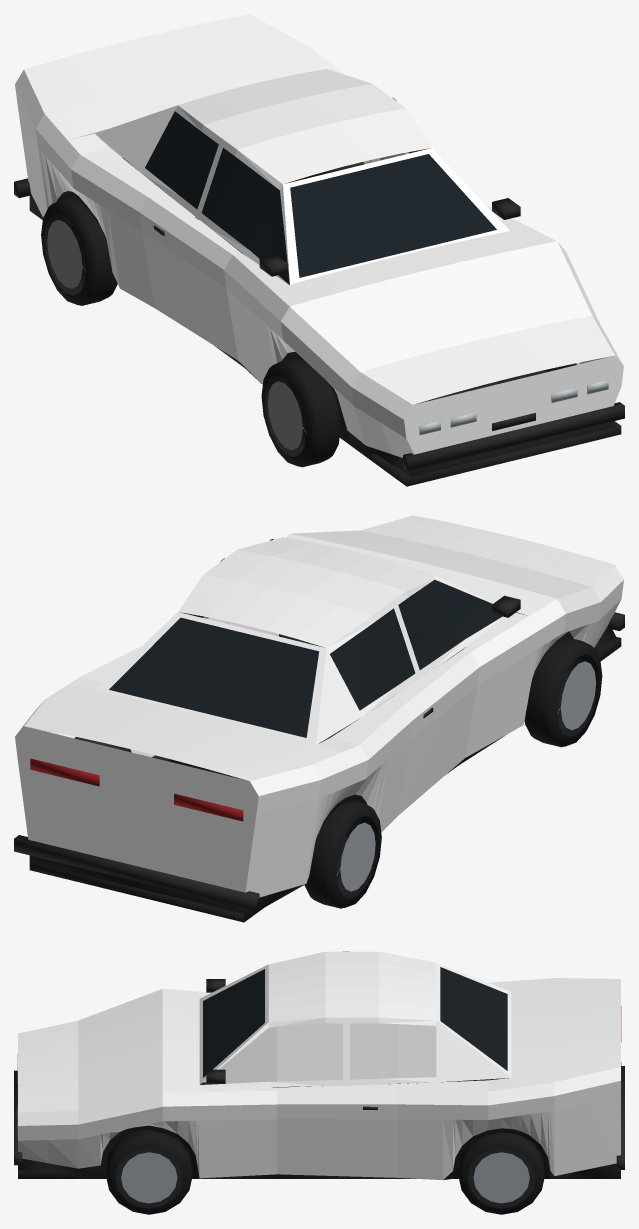
The model's file is pemberly_flautista.glb.
3 views of the same model, one above another, from view 1: azimuth 30°, elevation 25°; view 2: azimuth 150°, elevation 25°; view 3: azimuth 270°, elevation 25° (orthographic). The views are drawn at different scales.
Visible parts, largest first — view 1: Body_Paint, Body_Details, Mount_FrontLeft_Wheel_Details, Mount_RearLeft_Wheel_Details; view 2: Body_Paint, Body_Details, Mount_FrontLeft_Wheel_Details, Mount_RearLeft_Wheel_Details; view 3: Body_Paint, Body_Details, Mount_FrontRight_Wheel_Details, Mount_RearRight_Wheel_Details.
Boxes of the visible parts, bbox=[...] form: Body_Paint: bbox=[15, 14, 623, 457]; Body_Details: bbox=[14, 111, 624, 486]; Mount_FrontLeft_Wheel_Details: bbox=[261, 357, 340, 467]; Mount_RearLeft_Wheel_Details: bbox=[41, 197, 117, 305]; Body_Paint: bbox=[15, 515, 623, 897]; Body_Details: bbox=[14, 539, 624, 922]; Mount_FrontLeft_Wheel_Details: bbox=[524, 636, 602, 747]; Mount_RearLeft_Wheel_Details: bbox=[304, 800, 381, 908]; Body_Paint: bbox=[18, 951, 620, 1180]; Body_Details: bbox=[14, 967, 624, 1179]; Mount_FrontRight_Wheel_Details: bbox=[106, 1129, 192, 1214]; Mount_RearRight_Wheel_Details: bbox=[458, 1132, 544, 1214].
Bounding box in the file's own units: 1.83 × 1.31 × 4.07.
2 materials, 1 textured.
